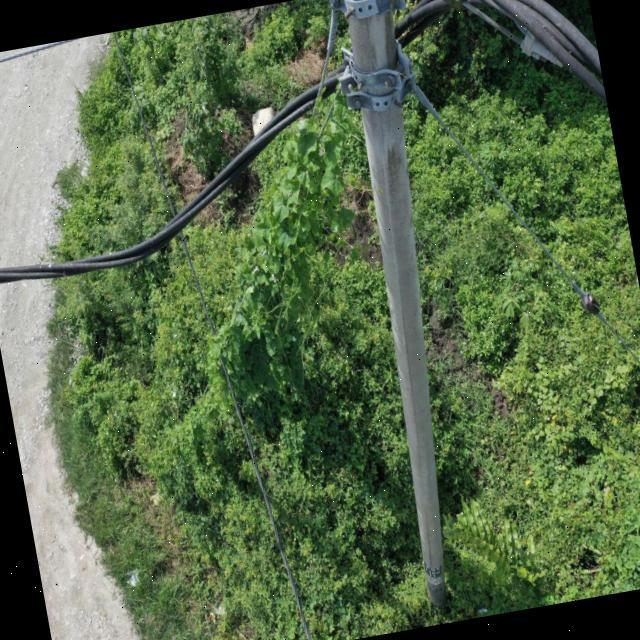critical vegetation: (104, 67, 409, 482)
